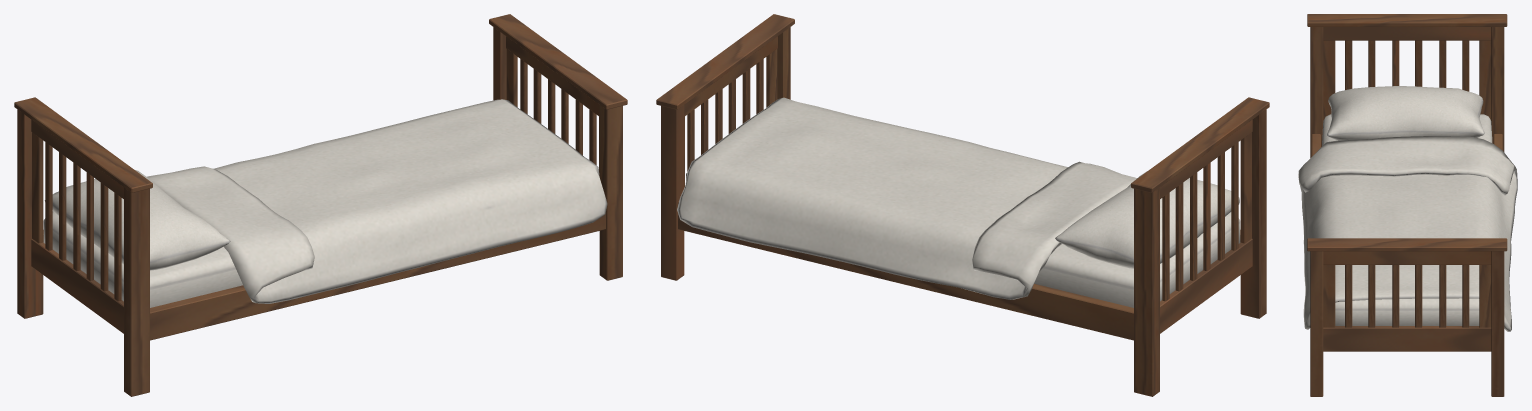
Rendered from bed1.obj.
3 views of the same model, side by side, from view 1: azimuth 30°, elevation 25°; view 2: azimuth 150°, elevation 25°; view 3: azimuth 270°, elevation 25° (orthographic). The views are drawn at different scales.
Visible parts, largest first — view 1: Cube.002; view 2: Cube.002; view 3: Cube.002.
Boxes of the visible parts, box(x1,y1,x2,y2) form: Cube.002: box(14, 14, 627, 396); Cube.002: box(656, 14, 1269, 396); Cube.002: box(1298, 14, 1517, 396).
Size of the model in its own units: 1.88 by 0.7617 by 0.8472.
